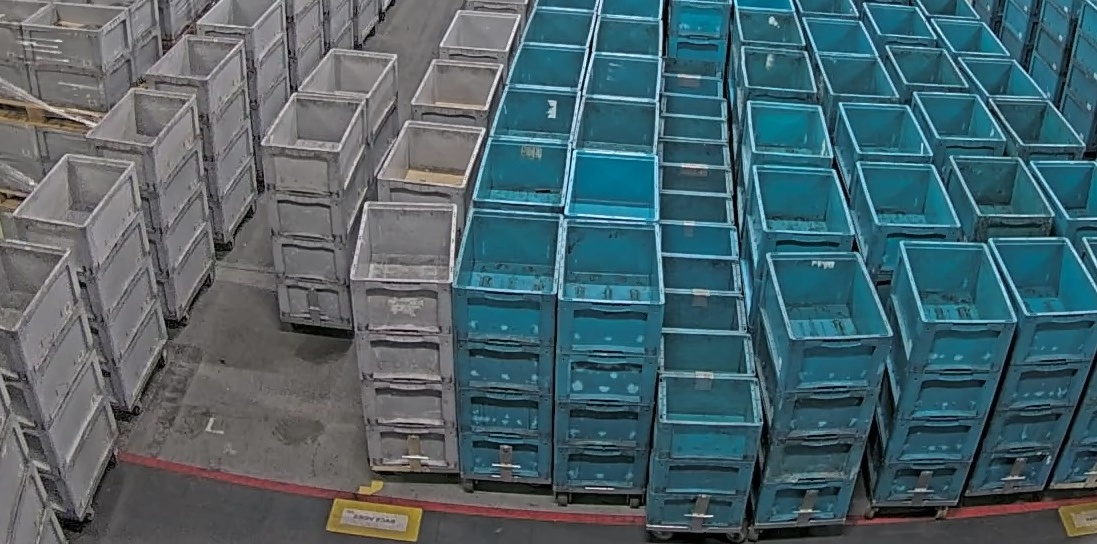4G: (348, 199, 458, 472), (261, 92, 369, 332)
B4: (864, 239, 1019, 507), (751, 246, 891, 526), (966, 236, 1097, 493), (454, 208, 565, 482), (554, 217, 665, 490)
B8: (644, 326, 763, 527)
